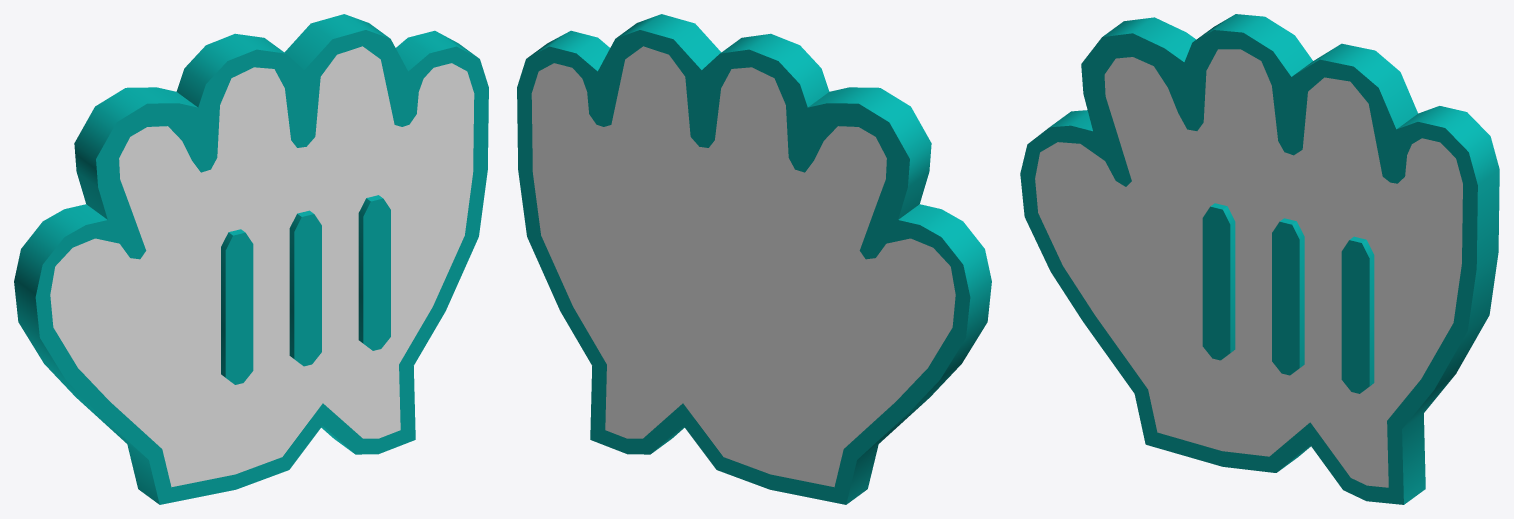
Rendered from cursor_hand_v2_G.glb.
3 renders of one model, left to right at view 1: azimuth 30°, elevation 25°; view 2: azimuth 150°, elevation 25°; view 3: azimuth 330°, elevation 25°, orthographic.
Parts seen in each view (by area): view 1: cursor_02.001; view 2: cursor_02.001; view 3: cursor_02.001.
Part boxes in pixels (x1,y1,x2,y2): cursor_02.001: (14,14,488,504); cursor_02.001: (517,14,991,504); cursor_02.001: (1020,14,1499,504).
Size of the model in its own units: 0.0605 by 0.0555 by 0.00608.
Materials: 1 (1 with a texture image).
